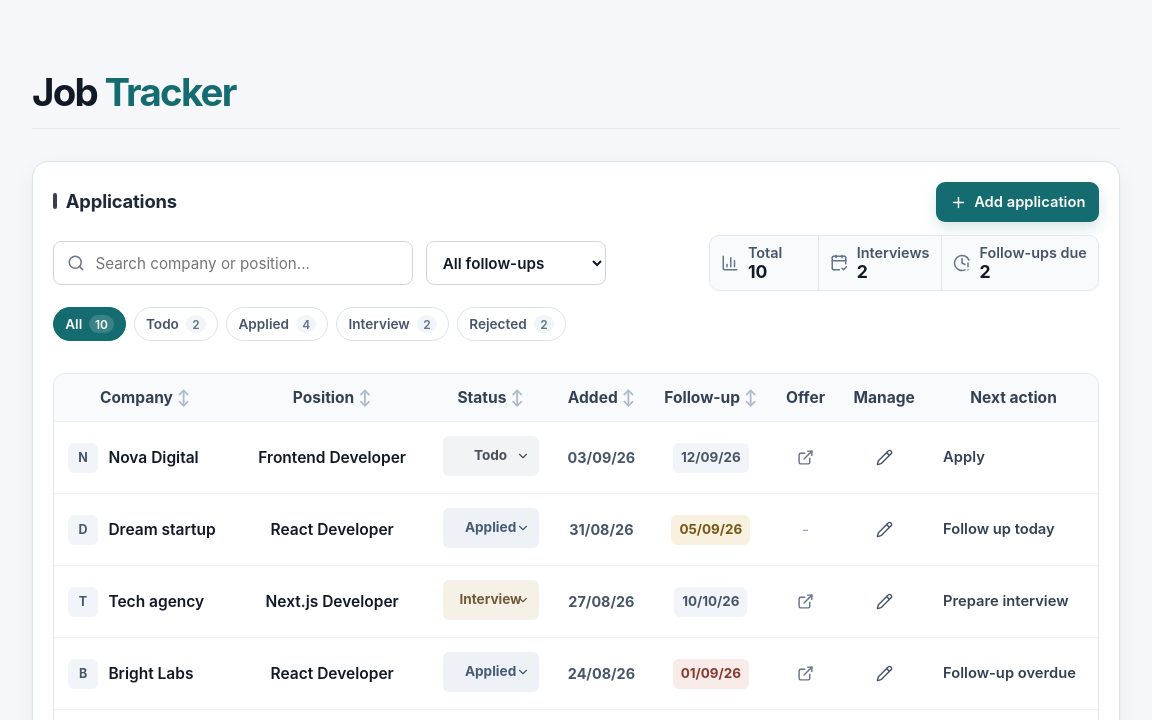
Test: Home page › filters applications with the search field
Type "Nova" into the field named "Search applications" at x=233, y=263, box [53,241,413,285]
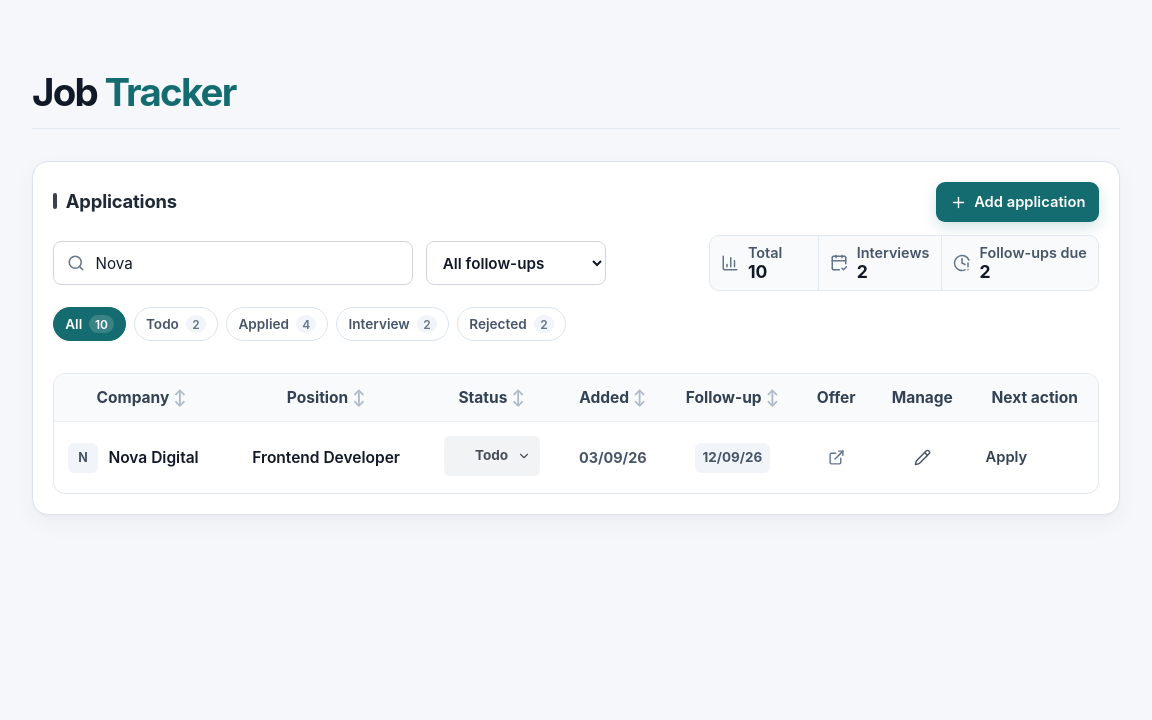
Expected: the text "Nova Digital" is shown 2 times
Expected: the text "Dream startup" is gone
Expected: the text "Tech agency" is gone
